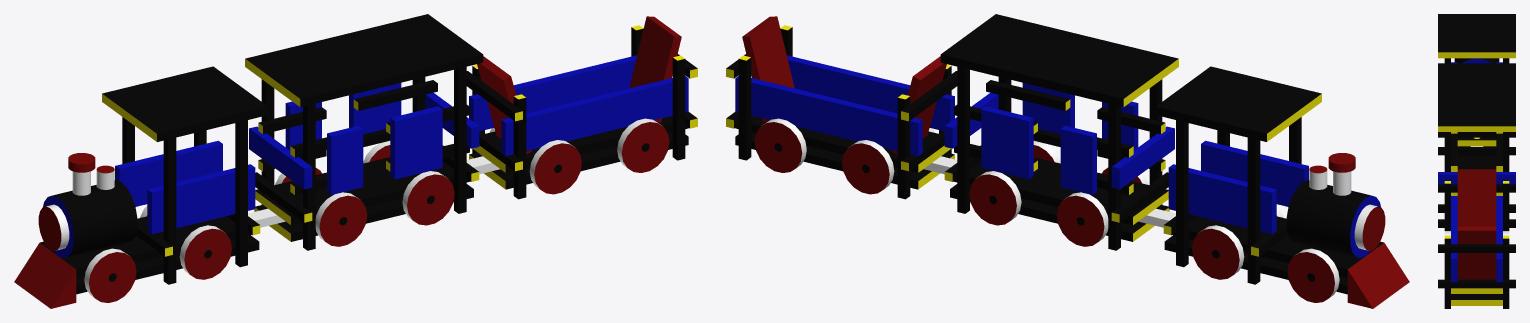
The model's file is Choochoo.FBX.
3 renders of one model, left to right at view 1: azimuth 30°, elevation 25°; view 2: azimuth 150°, elevation 25°; view 3: azimuth 270°, elevation 25°, orthographic. The views are drawn at different scales.
Parts seen in each view (by area): view 1: Dach001, Dach, Seite (×2), Seite001, ZylinderVorne, Pfosten (×3), Rad (×2), Seite002, Quader008, Boden001, Prisma001, Quader013 (+28 smaller); view 2: Dach001, Dach, Seite (×2), Seite002, ZylinderVorne, Pfosten (×3), Rad (×2), Seite001, Quader011, Boden001, Prisma001, Quader013 (+28 smaller); view 3: Dach001, Dach, Quader005, Quader013, BalkenHinten008, BalkenHinten004, Boden005, Boden001, Seite001, Seite002, BalkenHinten001, BalkenHinten005 (+15 smaller).
Part boxes in pixels (x1,y1,x2,y2): Dach001: [245, 14, 483, 107]; Dach: [102, 66, 268, 141]; Seite (×2): [115, 140, 255, 234]; Seite001: [501, 76, 688, 156]; ZylinderVorne: [43, 180, 137, 258]; Pfosten (×3): [122, 117, 247, 284]; Rad (×2): [84, 225, 231, 302]; Seite002: [469, 55, 636, 131]; Quader008: [390, 106, 442, 179]; Boden001: [255, 157, 469, 225]; Prisma001: [14, 242, 76, 308]; Quader013: [629, 16, 681, 122]; Dach001: [940, 14, 1178, 107]; Dach: [1155, 66, 1321, 141]; Seite (×2): [1168, 140, 1308, 234]; Seite002: [735, 76, 922, 156]; ZylinderVorne: [1286, 180, 1380, 258]; Pfosten (×3): [1176, 117, 1301, 284]; Rad (×2): [1192, 225, 1339, 302]; Seite001: [787, 55, 954, 131]; Quader011: [981, 106, 1033, 179]; Boden001: [954, 157, 1168, 225]; Prisma001: [1347, 242, 1409, 308]; Quader013: [742, 16, 794, 122]; Dach001: [1438, 63, 1515, 131]; Dach: [1438, 14, 1515, 58]; Quader005: [1457, 169, 1496, 226]; Quader013: [1457, 226, 1496, 279]; BalkenHinten008: [1438, 279, 1515, 288]; BalkenHinten004: [1438, 244, 1515, 252]; Boden005: [1451, 294, 1502, 305]; Boden001: [1457, 155, 1496, 169]; Seite001: [1451, 196, 1457, 282]; Seite002: [1496, 196, 1502, 282]; BalkenHinten001: [1438, 147, 1515, 155]; BalkenHinten005: [1438, 172, 1515, 184].
Bounding box in the file's own units: 401 × 97.27 × 60.
